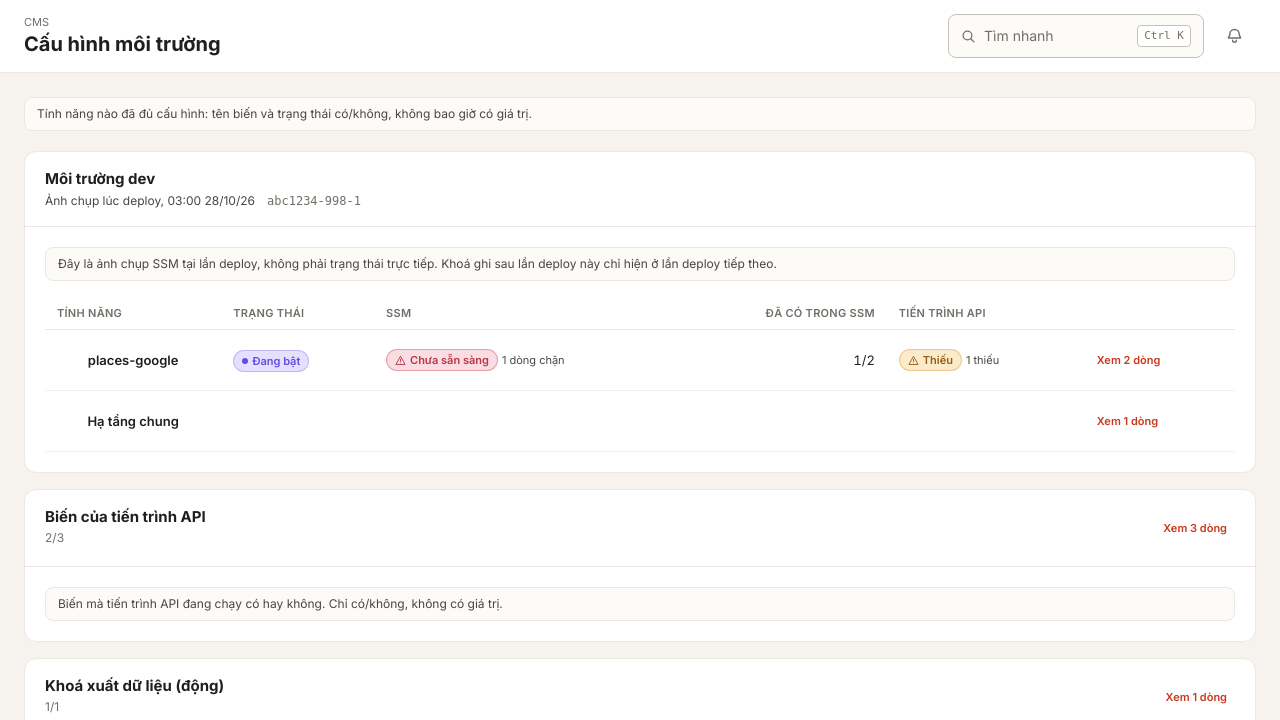
Test: environment config readiness (GoGo-CMS#264) › puts rows with no capability under shared infrastructure
What coordinates should you click on to do the following:
click the button "Xem 1 dòng" in the row of "Hạ tầng chung"
I would click on:
 (1128, 421)
Its box is [1089,399,1166,443].
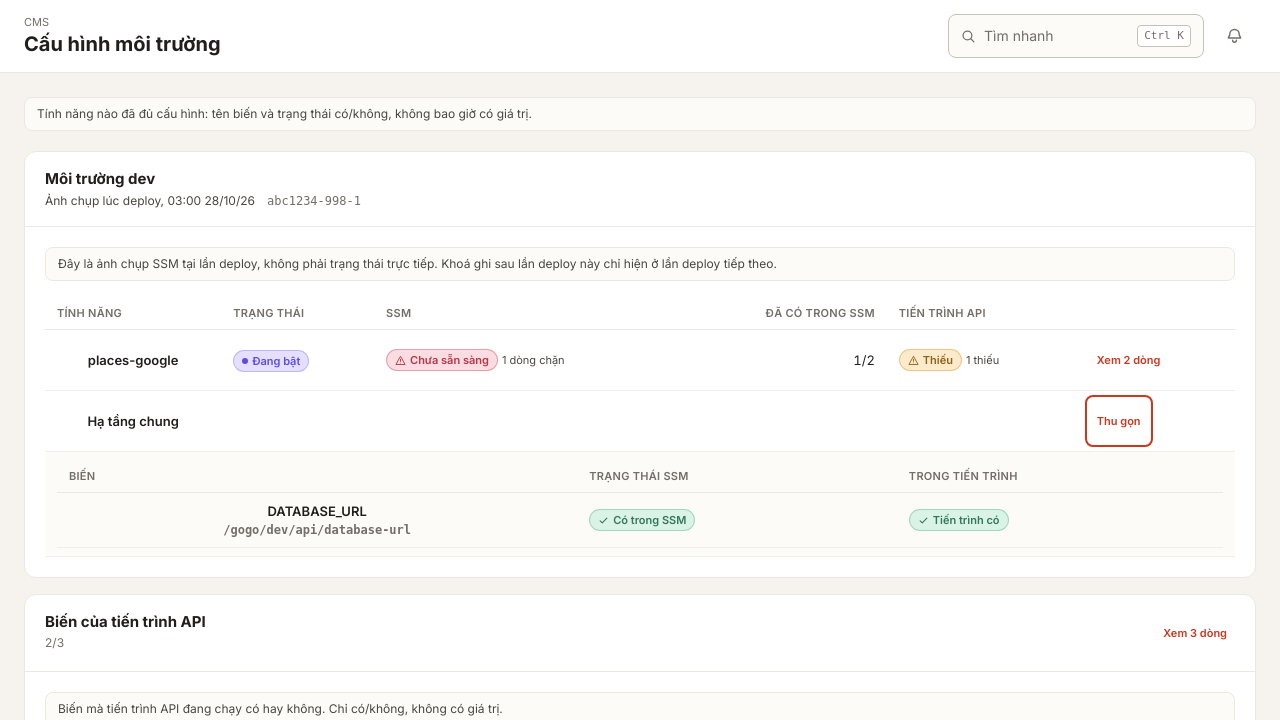
Expected: the text "/gogo/dev/api/database-url" is shown, [223,523,411,537]
